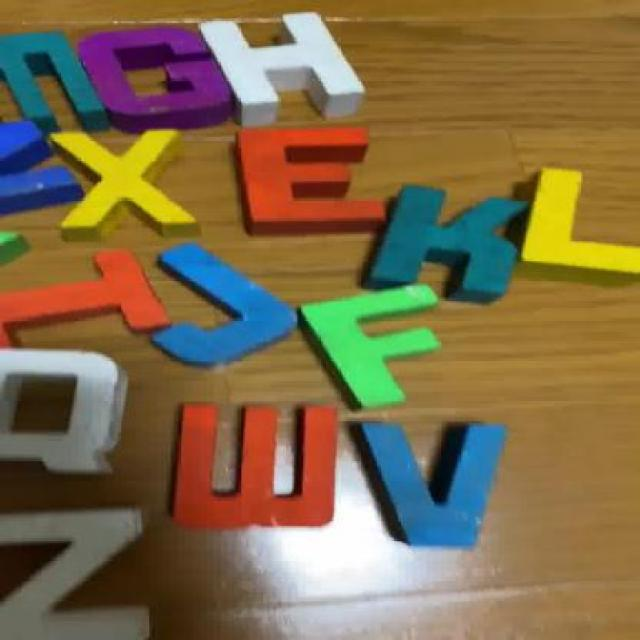E: (244, 126, 388, 237)
F: (310, 280, 438, 400)
G: (85, 21, 221, 118)
H: (211, 8, 364, 110)
J: (142, 242, 296, 366)
K: (355, 192, 523, 299)
L: (513, 170, 639, 288)
V: (367, 422, 505, 544)
W: (159, 402, 352, 546)
X: (41, 130, 170, 245)
Z: (0, 506, 149, 640)
